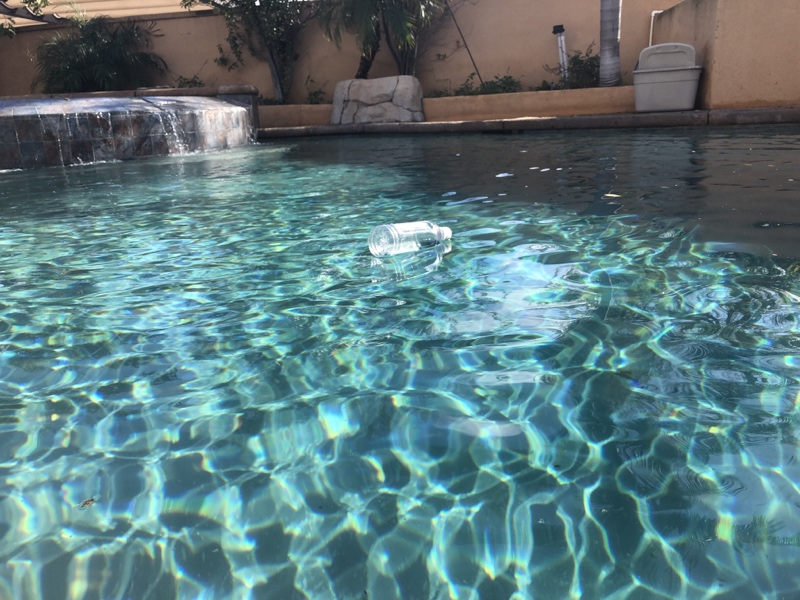Plastic Bottle: (364, 216, 457, 259)
